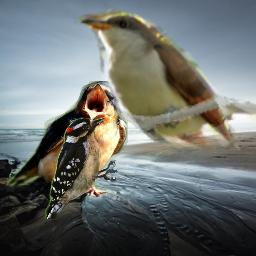Cuckoo: (74, 0, 256, 150)
Swallow: (6, 81, 128, 199)
Woodpecker: (45, 117, 118, 219)
